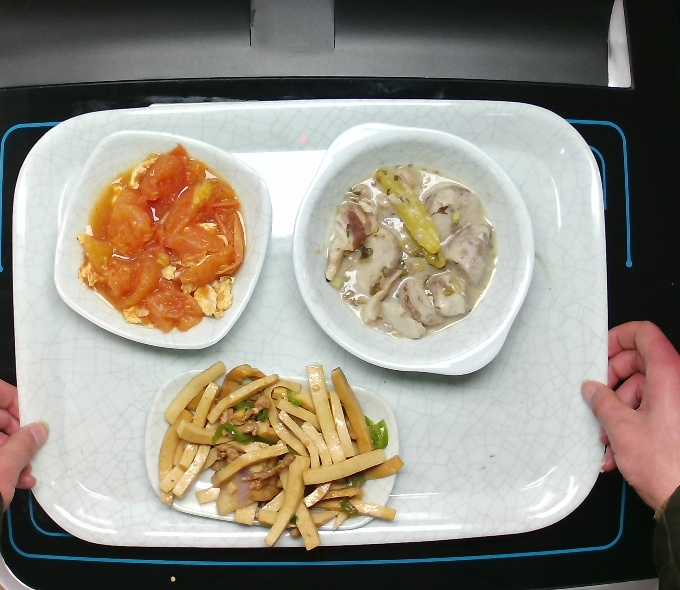wcq-FanQieChaoDan: (70, 142, 250, 334)
wcq-QianYeDouFu: (155, 363, 400, 555)
wcq-YangYu: (318, 159, 496, 340)
